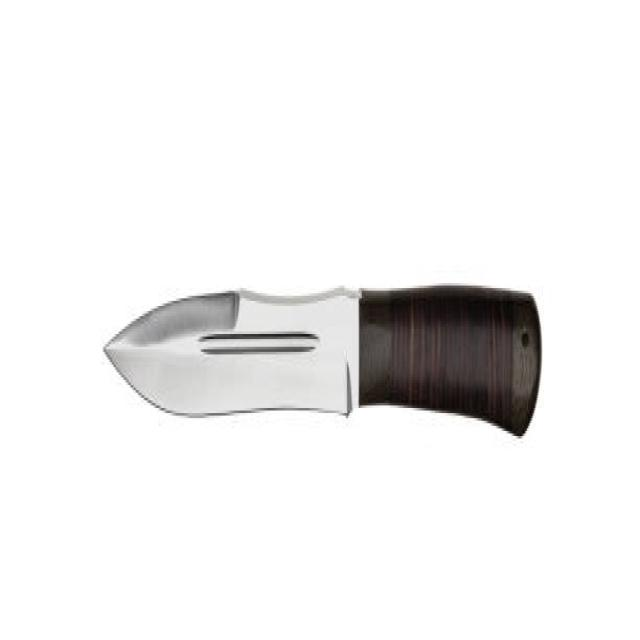knife: (102, 278, 546, 453)
